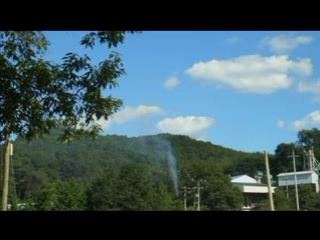smoke: (147, 133, 181, 199)
